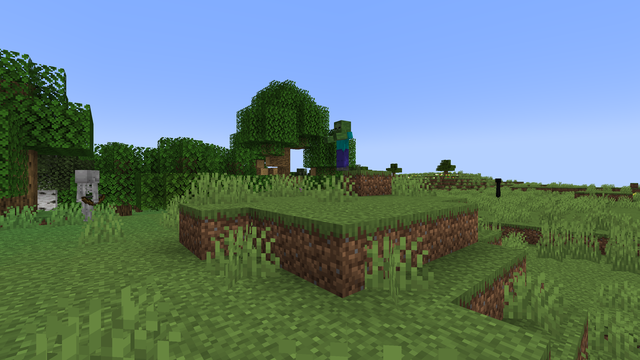endermens: (494, 177, 501, 200)
squelettes: (76, 170, 97, 223)
zombies: (332, 120, 352, 170)
